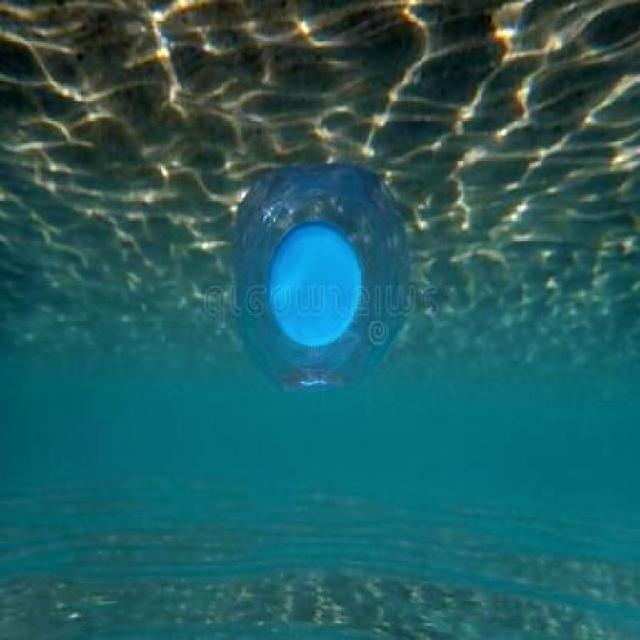pbottle: (217, 148, 426, 410)
